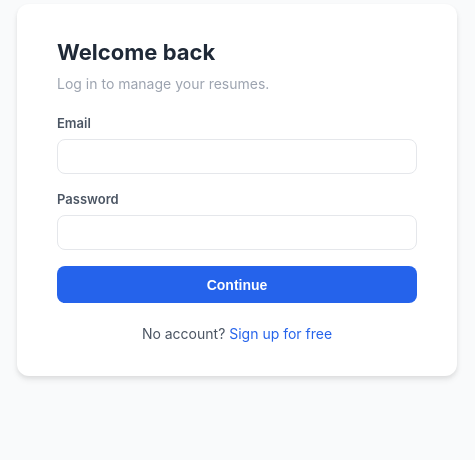
Test: Login password step › shows an error message on failed login
The image size is (475, 460).
Type "a@b.com" into the field labelled "Email" at (237, 157), box [57,139,417,174]
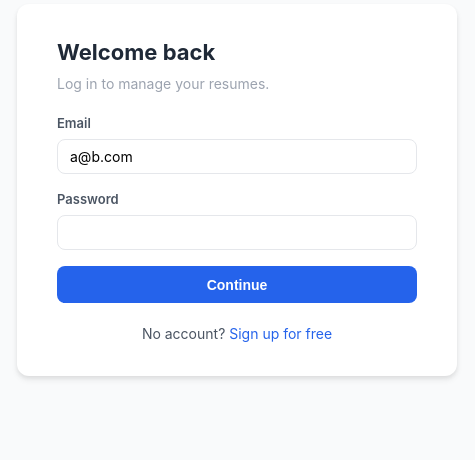
Type "secret123" into the password field labelled "Password" at (237, 233), box [57,215,417,250]
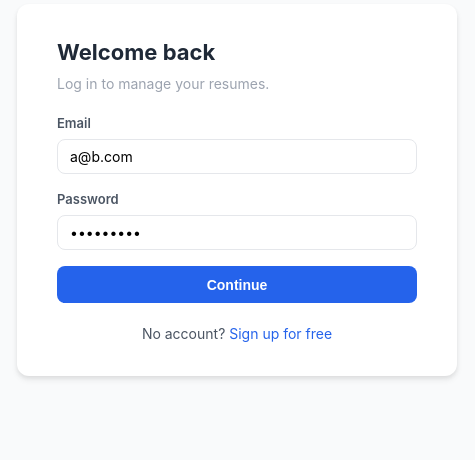
Click the button "Continue" at (237, 285), box [57,266,417,303]
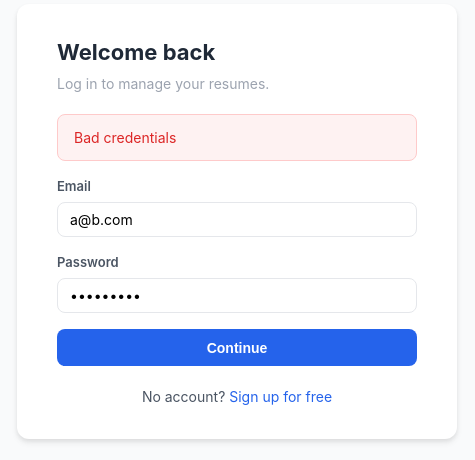
Check: the text "Bad credentials" is shown, box [57,114,417,161]
